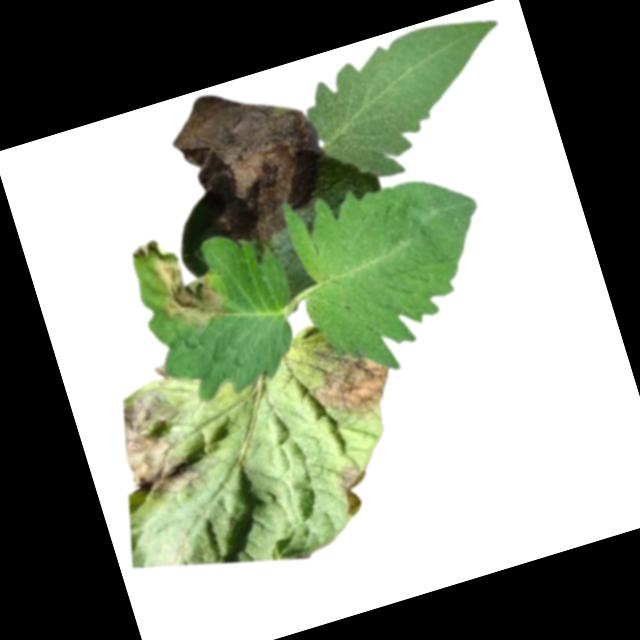Late_blight: (162, 68, 341, 260), (105, 375, 214, 506), (128, 221, 234, 344), (305, 337, 404, 429), (334, 461, 374, 514), (153, 362, 170, 381)
